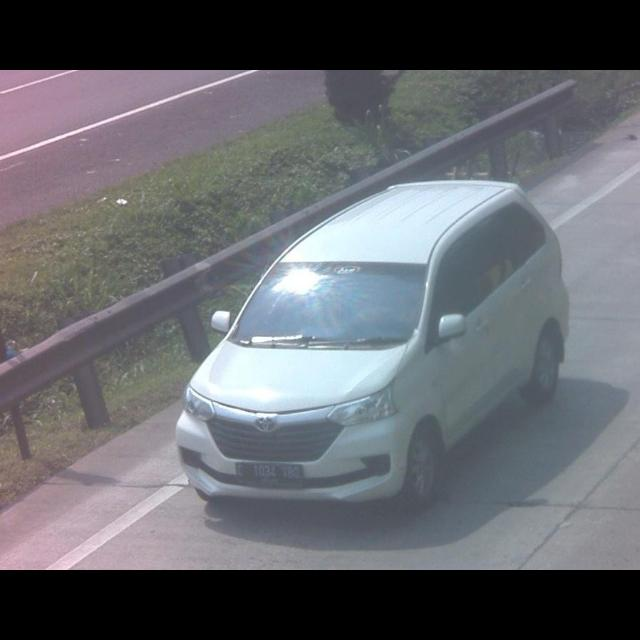plate: (232, 458, 302, 486)
